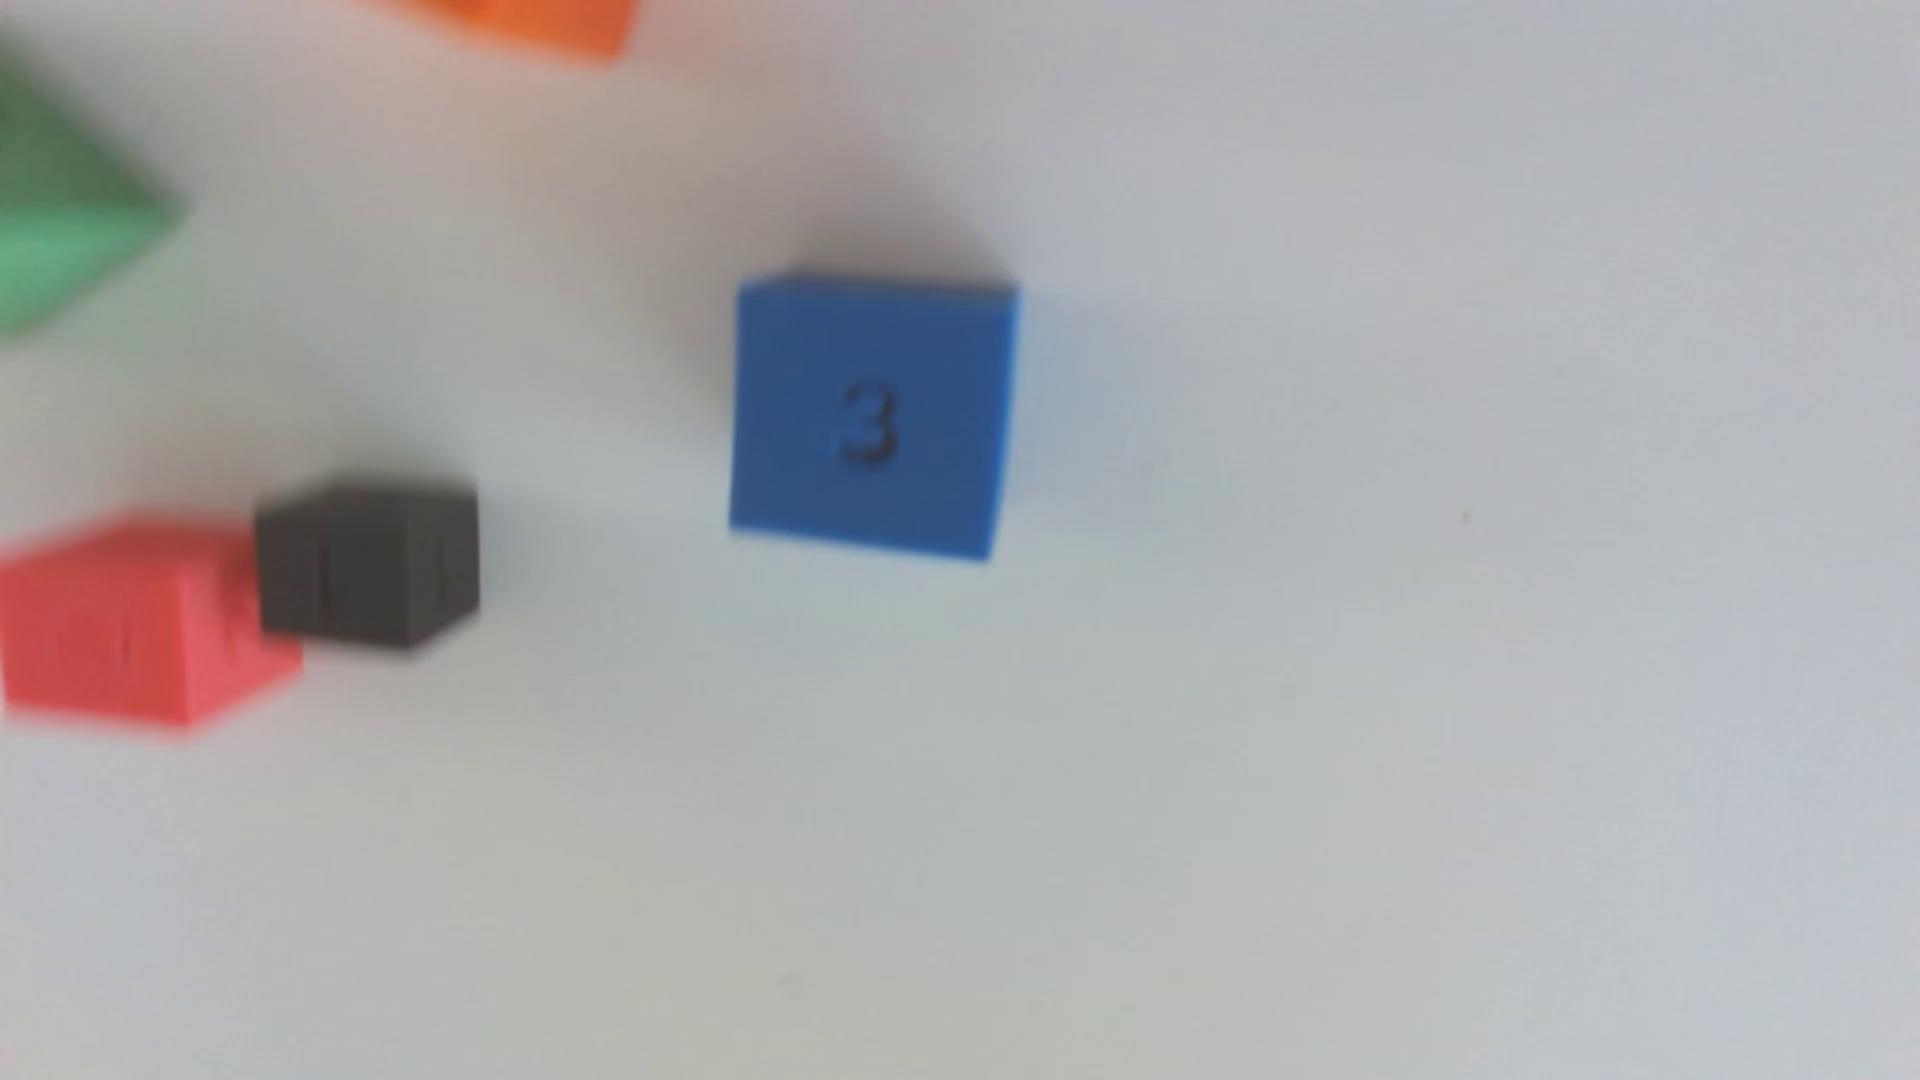black: (253, 480, 481, 651)
blue: (728, 274, 1018, 560)
green: (0, 62, 178, 340)
orange: (386, 0, 640, 65)
red: (0, 520, 303, 731)
